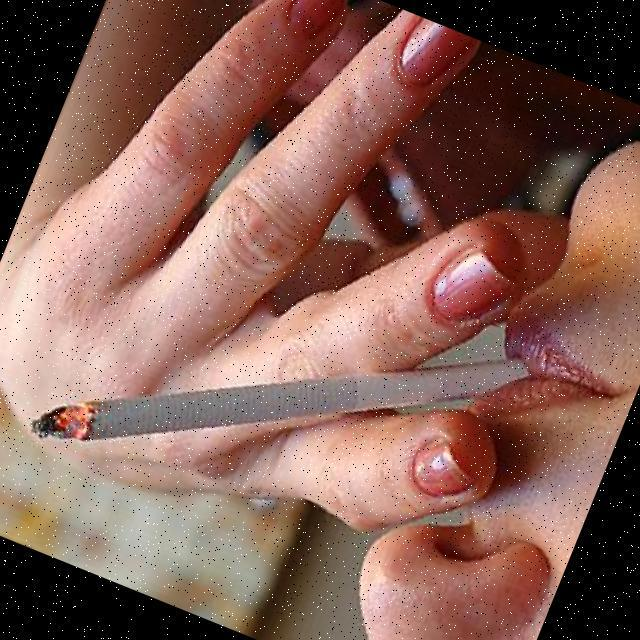cigarette: (21, 184, 526, 602)
